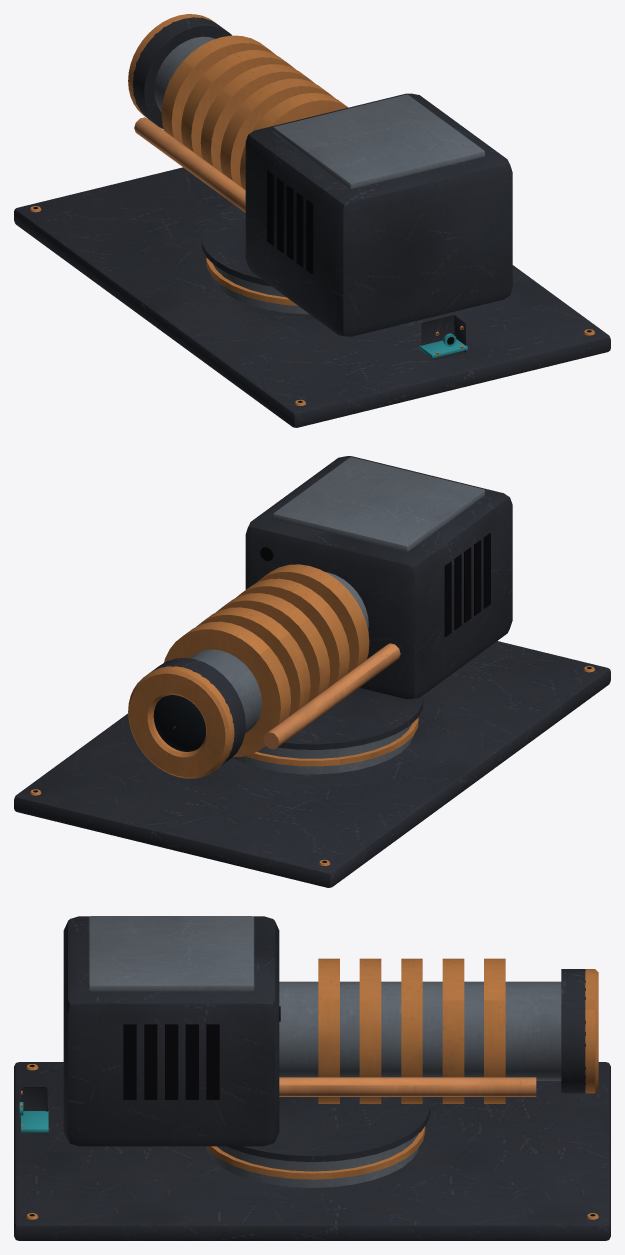
File: plasma_drill.glb
3 renders of one model, top to bottom at view 1: azimuth 30°, elevation 25°; view 2: azimuth 150°, elevation 25°; view 3: azimuth 270°, elevation 25°, orthographic. The views are drawn at different scales.
Parts seen in each view (by area): view 1: Body; view 2: Body; view 3: Body.
Part boxes in pixels (x1=…): Body: x1=14, y1=14, x2=610, y2=427; Body: x1=14, y1=456, x2=610, y2=887; Body: x1=14, y1=916, x2=610, y2=1240.
Bounding box in the file's own units: 0.47 × 0.28 × 0.72.
Materials: 9 (4 with a texture image).
